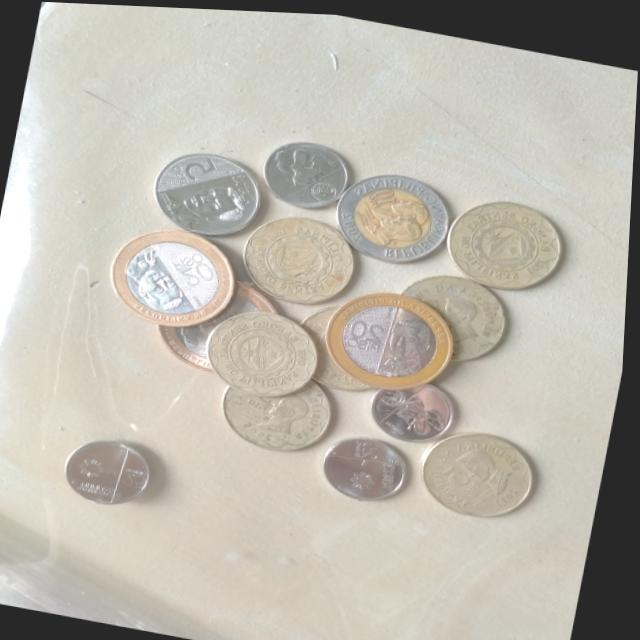10_Old_Front: (337, 159, 455, 268)
5_New_Front: (159, 145, 265, 233)
5_Old_Back: (456, 194, 560, 284)
